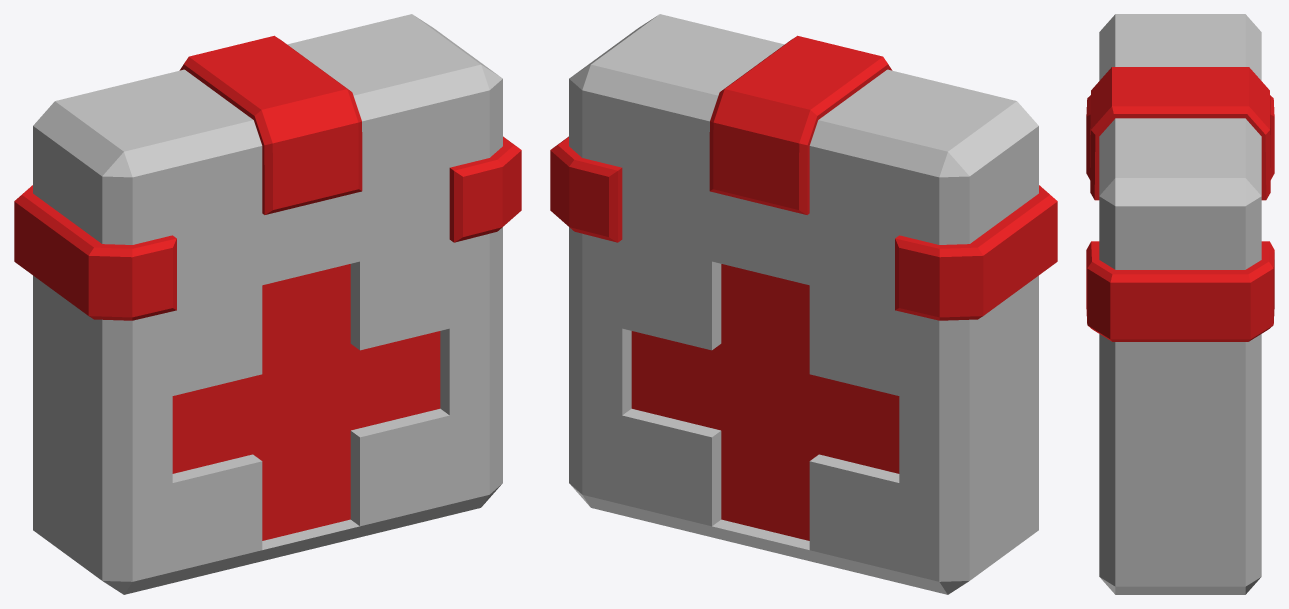
File: Apteka_0_5_0_2_0_5_mesh.glb
3 views of the same model, side by side, from view 1: azimuth 30°, elevation 25°; view 2: azimuth 150°, elevation 25°; view 3: azimuth 270°, elevation 25° (orthographic). The views are drawn at different scales.
Parts seen in each view (by area): view 1: Apteka_0.5_0.2_0.5_mesh; view 2: Apteka_0.5_0.2_0.5_mesh; view 3: Apteka_0.5_0.2_0.5_mesh.
Boxes of the visible parts, x1,y1,x2,y2 form: Apteka_0.5_0.2_0.5_mesh: (14,14,521,594); Apteka_0.5_0.2_0.5_mesh: (550,14,1057,594); Apteka_0.5_0.2_0.5_mesh: (1086,14,1274,594).
Size of the model in its own units: 0.5 by 0.5 by 0.2.
